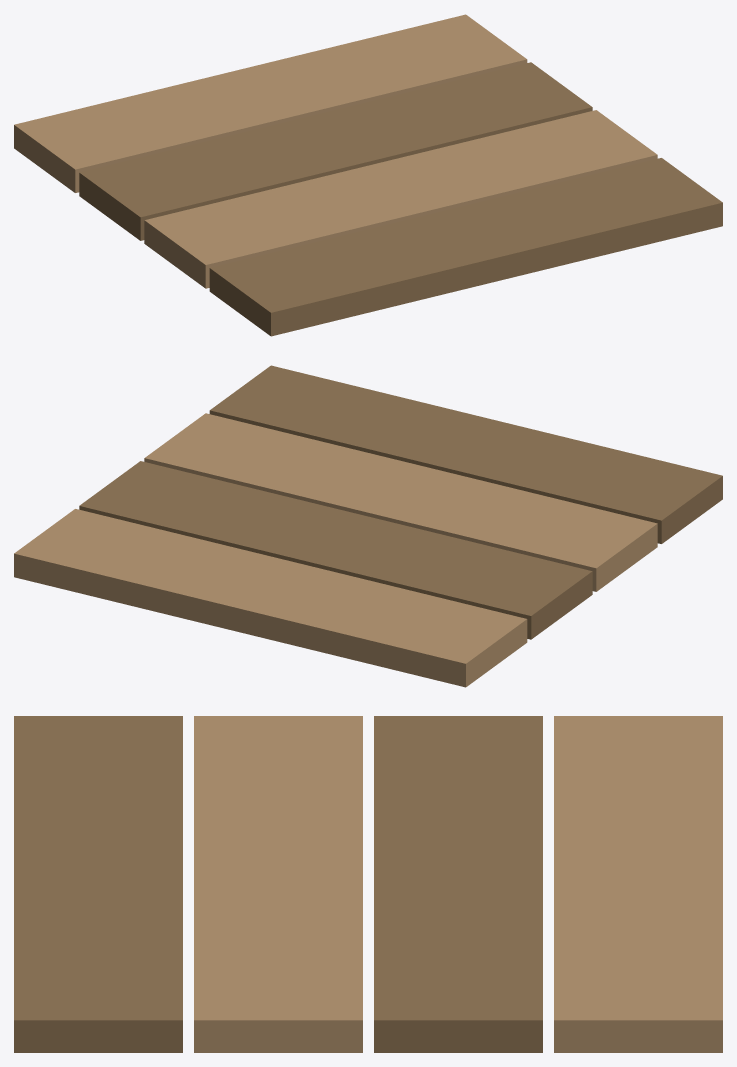
File: floor.glb
The picture shows the model from 3 angles, top to bottom: view 1: azimuth 30°, elevation 25°; view 2: azimuth 150°, elevation 25°; view 3: azimuth 270°, elevation 25°; orthographic projection. The views are drawn at different scales.
Visible parts, largest first — view 1: Plank, Plank.003, Plank.001, Plank.002; view 2: Plank.003, Plank, Plank.002, Plank.001; view 3: Plank, Plank.001, Plank.002, Plank.003.
Boxes of the visible parts, box(x1,y1,x2,y2) form: Plank: box(209, 158, 722, 336); Plank.003: box(14, 14, 527, 192); Plank.001: box(144, 110, 657, 288); Plank.002: box(79, 62, 592, 240); Plank.003: box(14, 509, 527, 687); Plank: box(209, 365, 722, 543); Plank.002: box(79, 461, 592, 639); Plank.001: box(144, 413, 657, 591); Plank: box(14, 716, 182, 1052); Plank.001: box(194, 716, 362, 1052); Plank.002: box(374, 716, 542, 1052); Plank.003: box(554, 716, 722, 1052).
Size of the model in its own units: 2 by 0.1 by 1.97.
